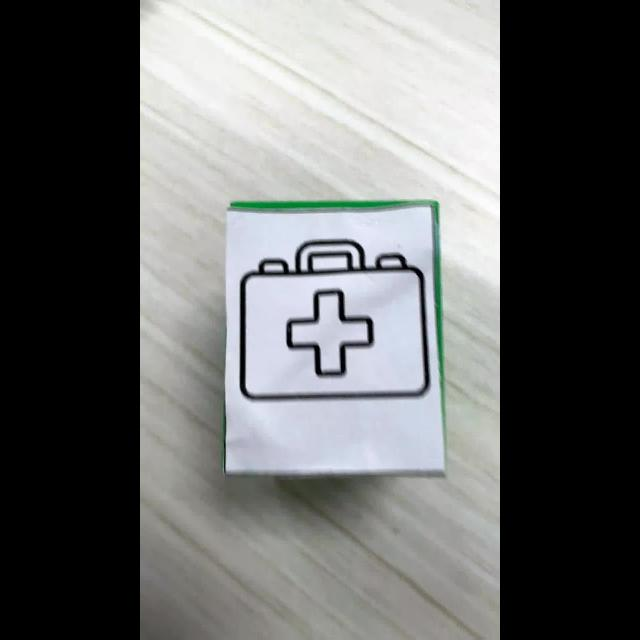Medkit: (239, 239, 429, 401)
